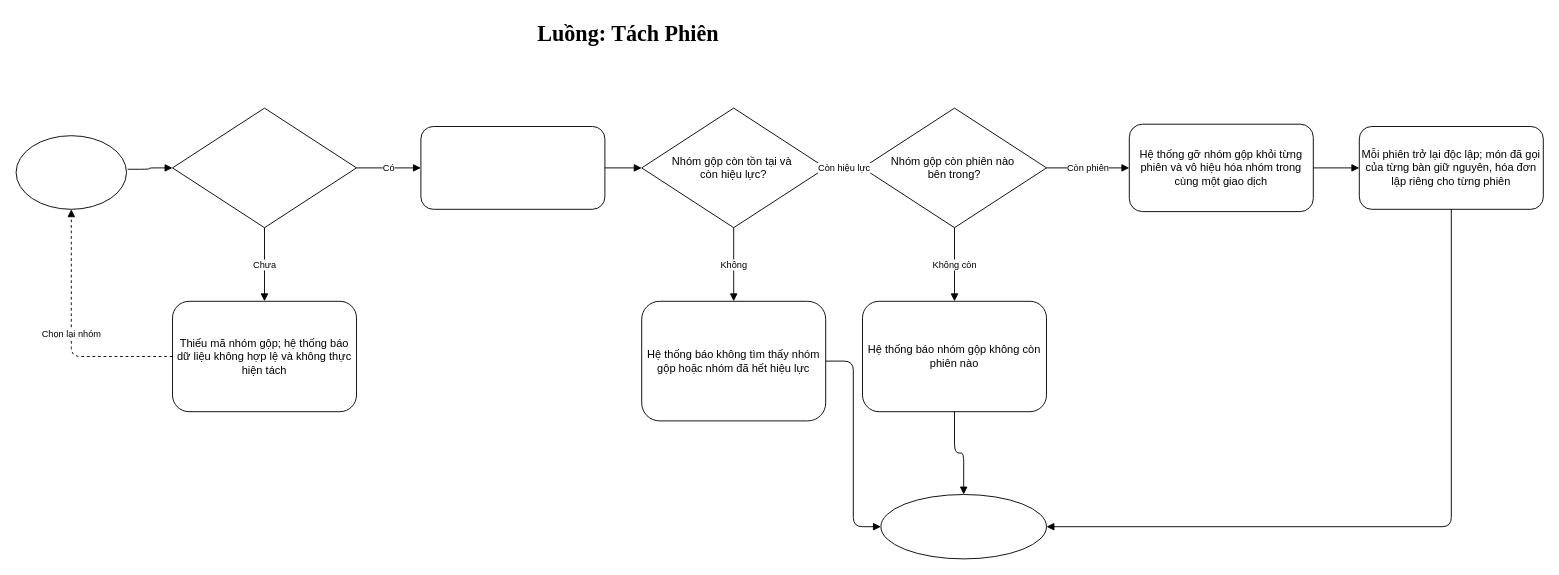
Some shapes in this 1559 by 575 pixel diagram are drawn without their labels. Each missing label, with the centre of its shape:
"Kết thúc" goes at (x=963, y=526).
"Phục vụ mở sơ đồ bàn và chọn nhóm gộp cần tách" goes at (x=70, y=172).
"Phục vụ xác nhận tách nhóm gộp" goes at (x=512, y=167).
"Đã xác định được nhóm gộp cần tách?" goes at (x=264, y=167).
